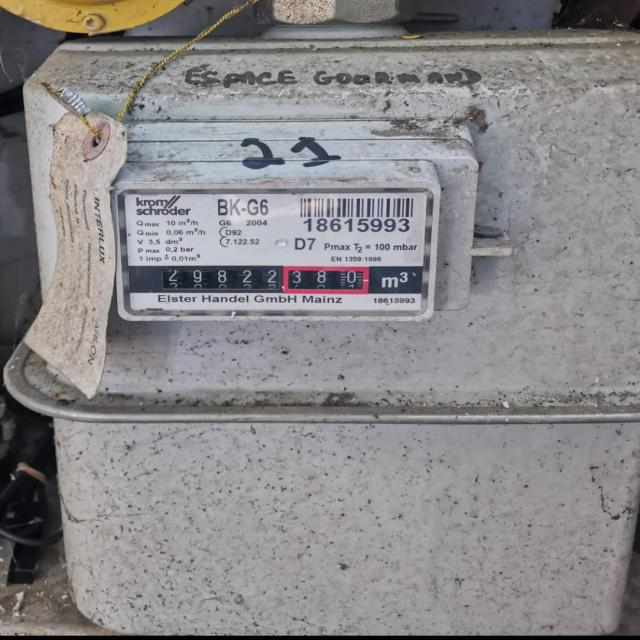gaz_meter: (120, 189, 432, 316)
indication: (152, 266, 370, 292)
